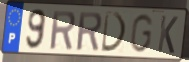9: (25, 8, 48, 51)
D: (100, 11, 128, 54)
G: (128, 13, 155, 55)
K: (156, 14, 180, 55)
R: (49, 9, 77, 51), (75, 10, 103, 52)
